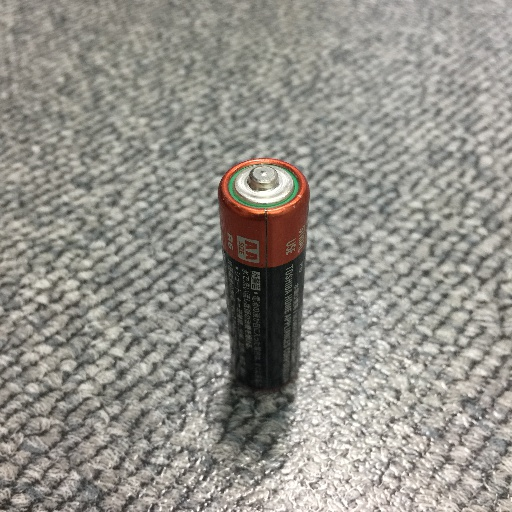Battery_0: (205, 137, 328, 412)
